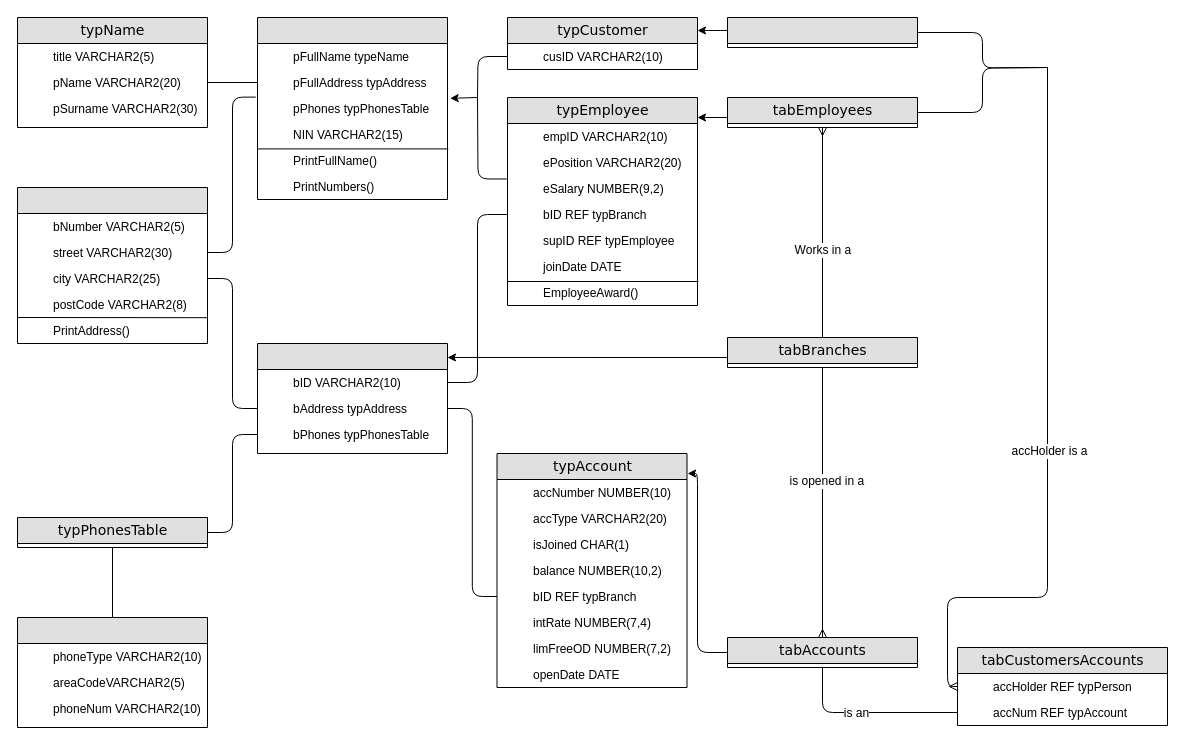
Image size: 1185x746. Some labels were removed from this diagram. Here are the shapes that lost their labels. From the top down, the box of each, then its label:
(726, 16, 918, 48): tabCustomers
(256, 16, 448, 200): typPerson
(16, 186, 208, 344): typAddress
(256, 342, 448, 454): typBranch
(16, 616, 208, 728): typPhone
